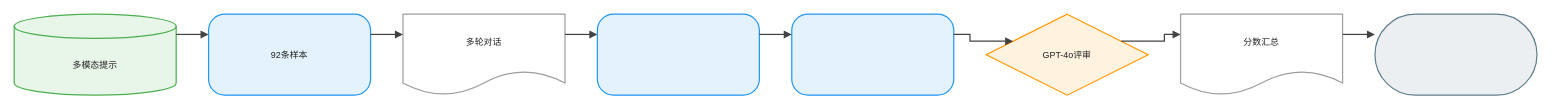
The diagram is 1552 pixels wide and 110 high, and some of its shapes have lost their labels. Each missing label, with the box of its shape:
参考答案: (596, 13, 760, 95)
基准得分: (1374, 13, 1537, 95)
模型回复: (791, 13, 954, 95)
